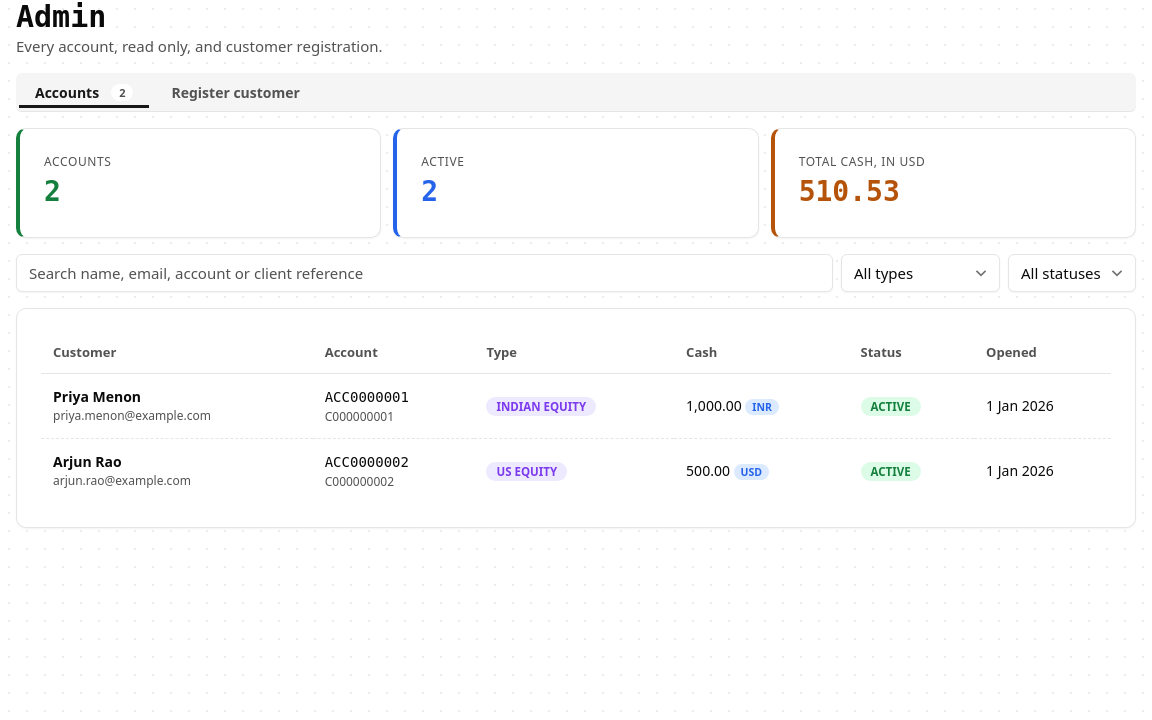
Scenario: AdminDashboardComponent › opens an account read only, using the account id
The width and height of the screenshot is (1152, 720).
What coordinates should you click on to do the following:
click the row with test id "admin-row" that starts with "Priya Menon"
I would click on:
 (576, 406)
Its box is left=41, top=373, right=1111, bottom=438.
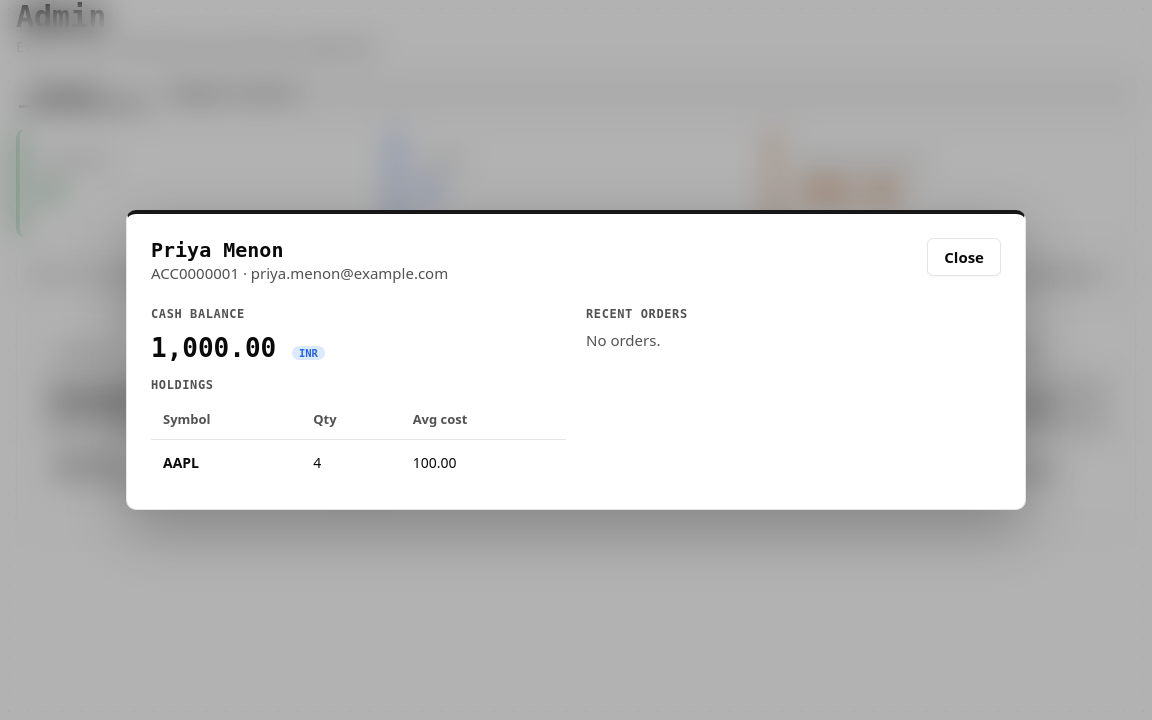
Check: the element with test id "admin-detail" shows "AAPL", box left=163, top=453, right=199, bottom=472
